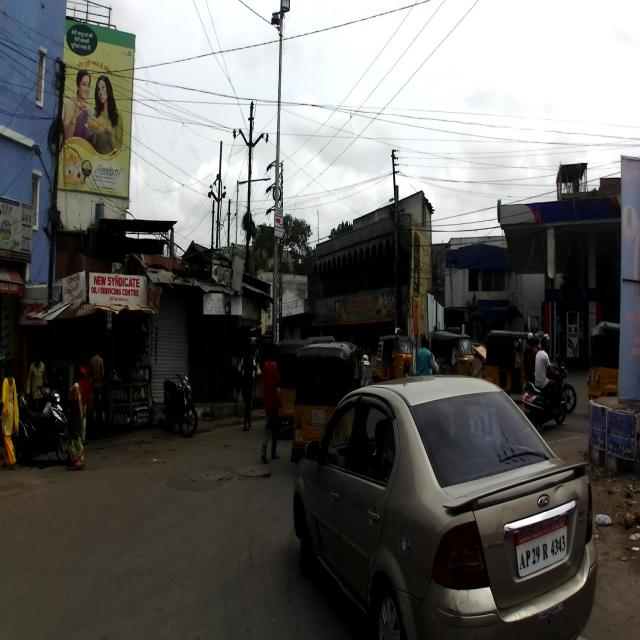autorickshaw: (291, 341, 361, 482)
car: (292, 372, 598, 639)
motorcycle: (162, 371, 204, 440)
scooter: (15, 391, 71, 465)
